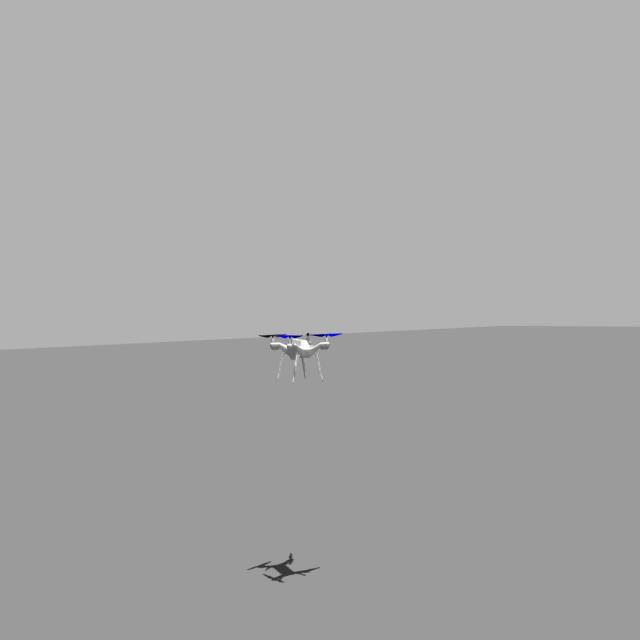Drone: (258, 315, 343, 385)
